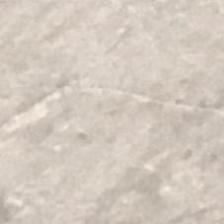Non_Crack: (16, 33, 200, 199)
